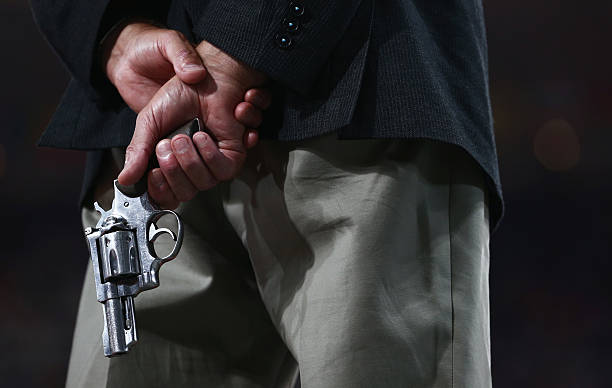pistol: (81, 179, 204, 360)
